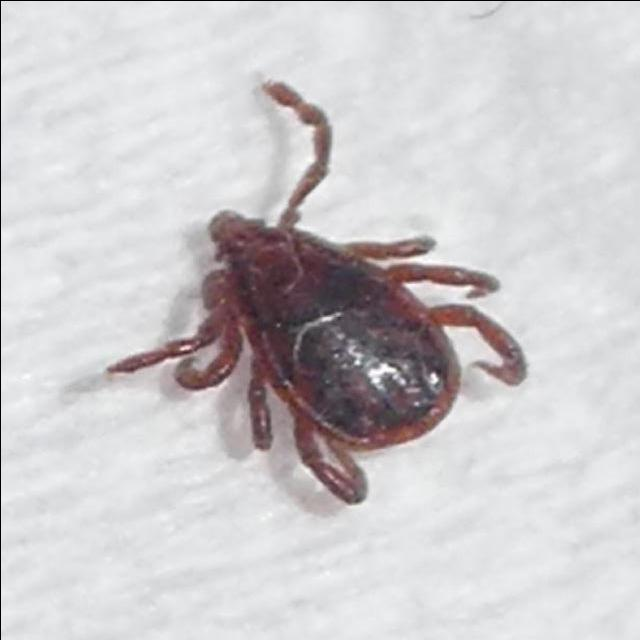Rhipicephalus Sanguineus-M: (102, 81, 527, 506)
